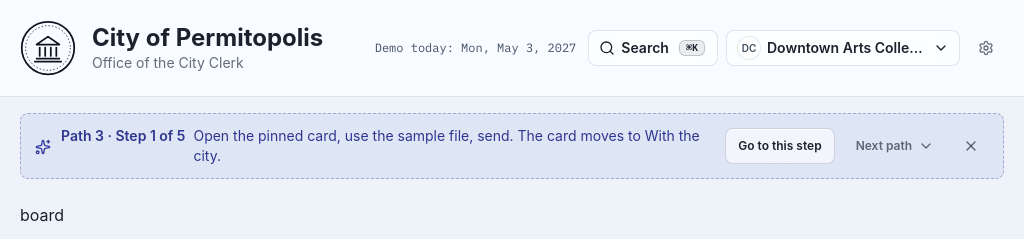
Test: CoachStrip › is dismissible, and a dismissal holds when the other shell mounts (it is the store's, not the strip's)
Expected: the text "Path 3 · Step 1 of 5" is shown, [61,126,185,146]
Click the button named "Dismiss the demo coach".
click(971, 146)  # box [953,128,989,164]
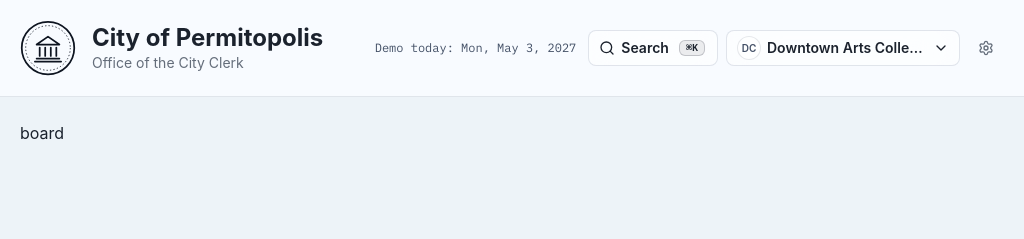
Result: the text "Path 3" is gone
